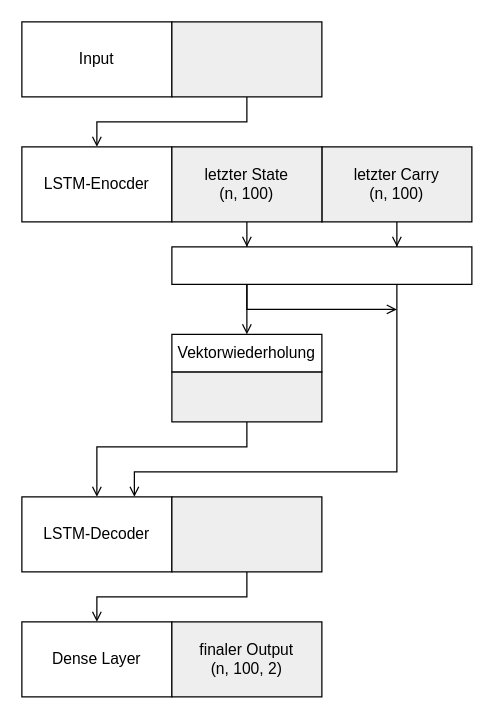
Some shapes in this 494 by 719 pixel diagram are drawn without their labels. Each missing label, with the centre of its shape:
"Batch-Normalisierung en" goes at point (321, 265).
"letzter State (n, 100, 100)" goes at point (246, 396).
"Samples (n, 250, 2)" goes at point (246, 59).
"Sequenz (n, 100, 100)" goes at point (246, 534).
